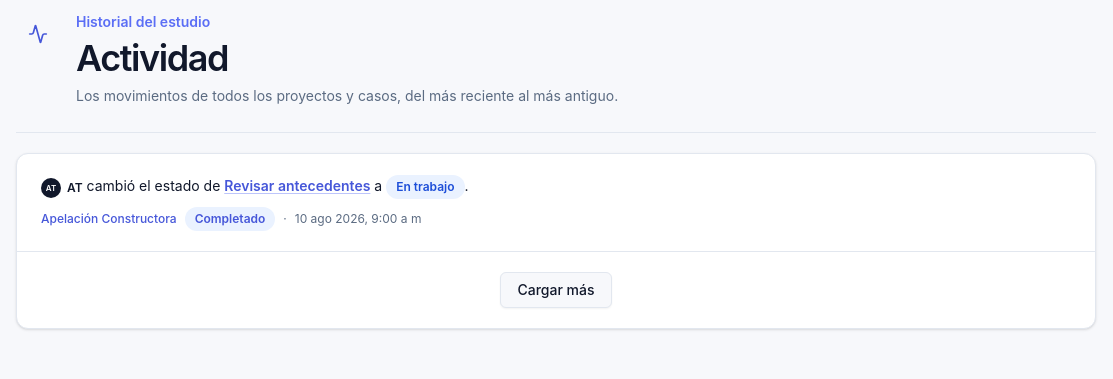
Test: StudioActivityPage › retains loaded activity when loading more fails and can retry
The width and height of the screenshot is (1113, 379).
Expected: the link "Apelación Constructora" is shown, [41,211,177,227]
Click the button "Cargar más": [556, 290] box [500,272,612,308]
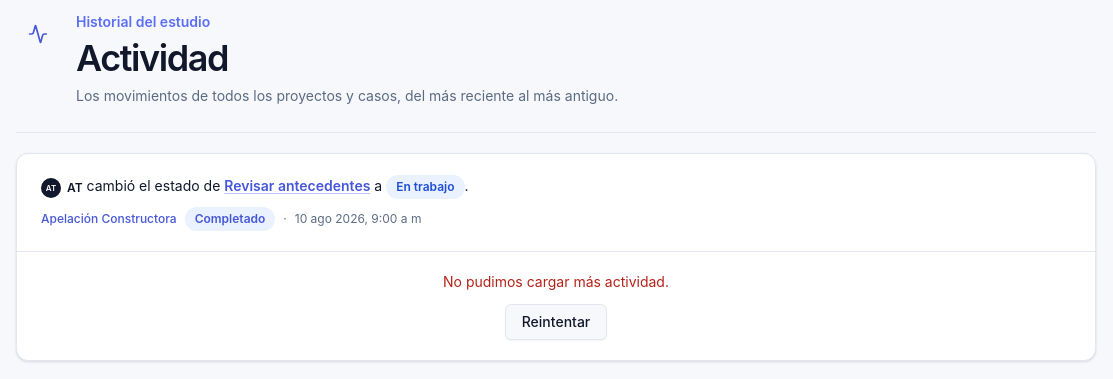
Expected: the link "Apelación Constructora" is shown, [41,211,177,227]
Expected: the text "No pudimos cargar más actividad." is shown, [443,272,669,292]
Click the button "Reintentar": [556, 322] box [505,304,607,340]
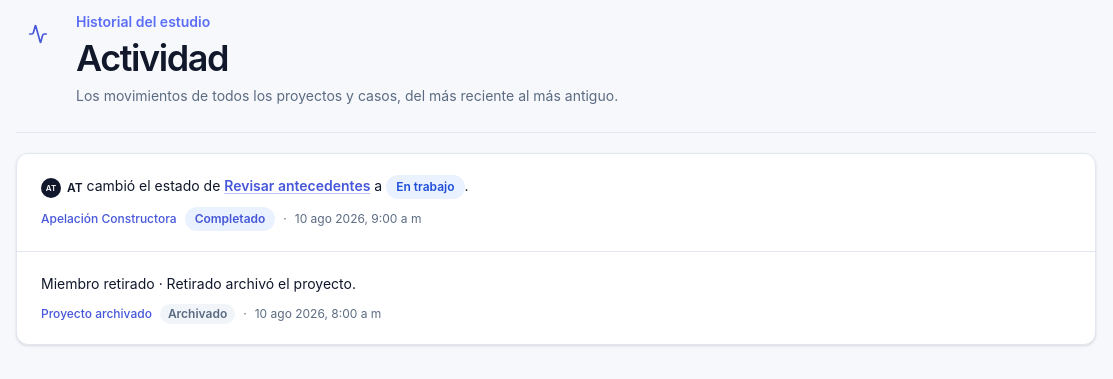
Expected: the link "Proyecto archivado" is shown, [41,306,152,322]
